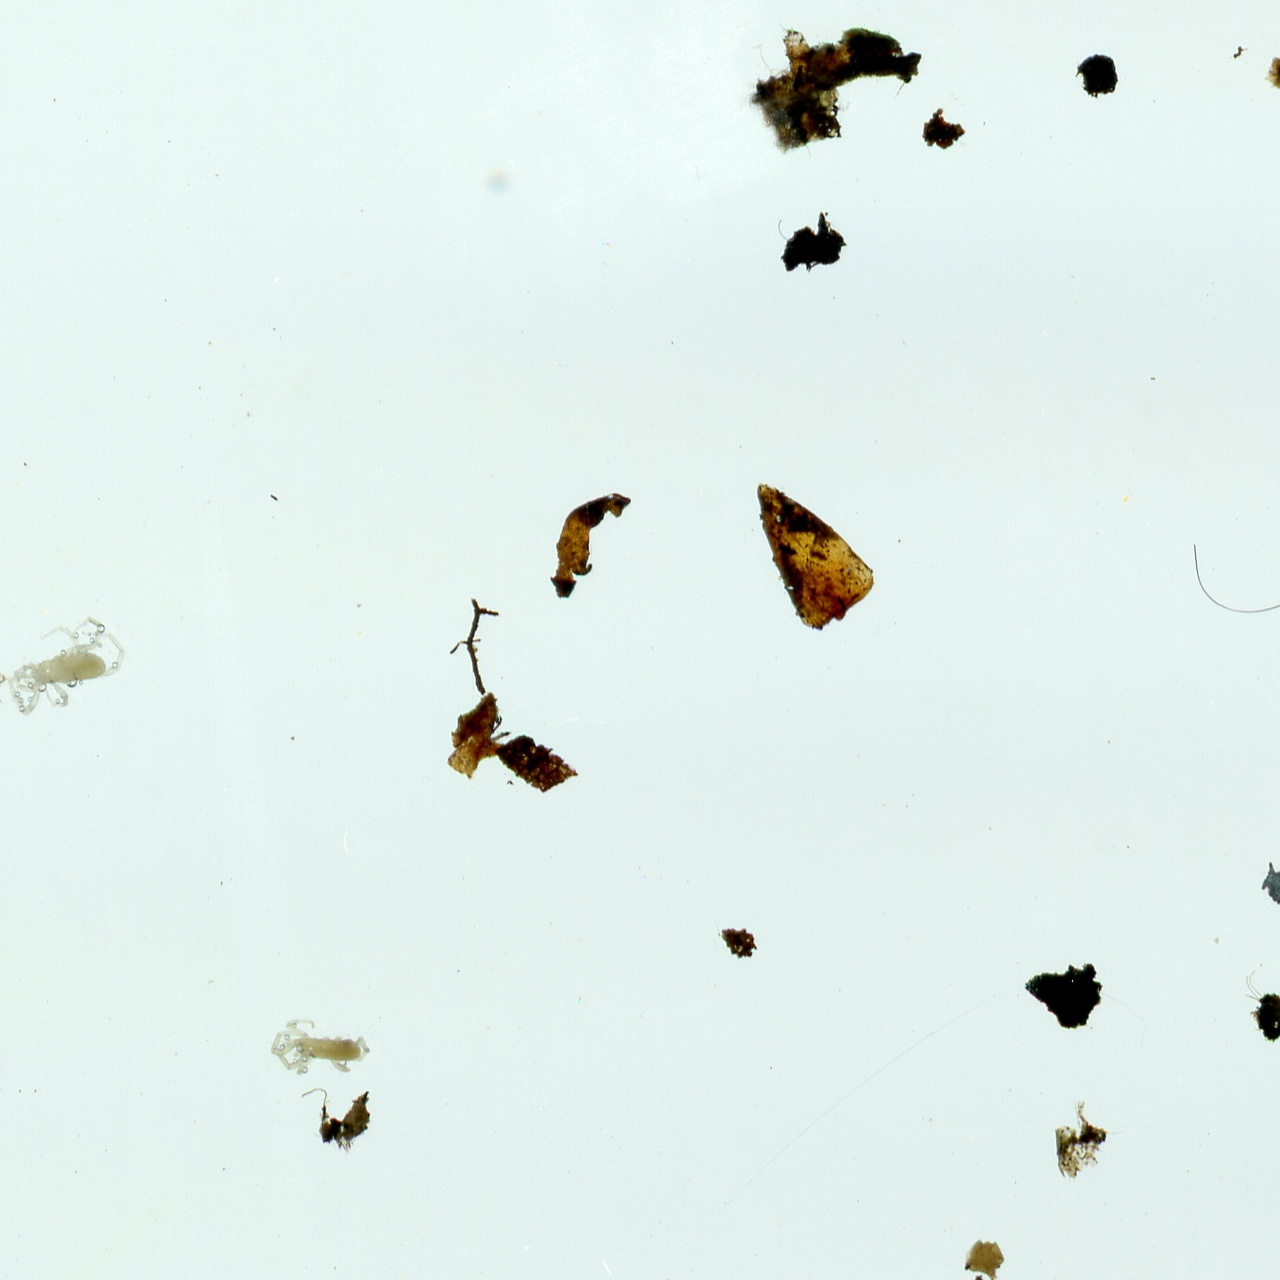arthropod: (0, 602, 156, 741), (268, 1015, 372, 1077), (1248, 851, 1280, 937)
